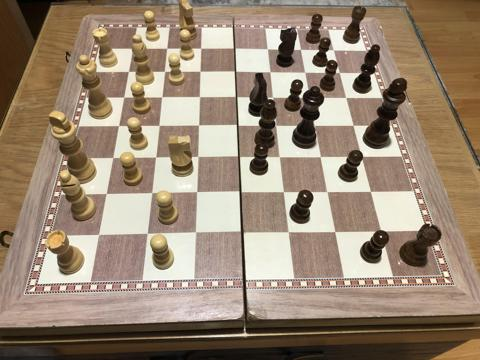xcorner: (329, 44, 342, 57), (263, 43, 276, 56), (127, 42, 140, 55), (335, 67, 348, 80), (123, 65, 136, 78), (305, 92, 318, 105), (194, 91, 207, 104), (156, 91, 169, 104), (118, 91, 131, 104), (272, 120, 285, 133), (193, 120, 206, 133), (316, 151, 329, 164), (275, 151, 288, 164), (150, 152, 163, 165), (107, 152, 120, 165), (323, 186, 336, 199), (146, 188, 159, 201), (100, 188, 113, 201), (330, 226, 343, 239), (284, 227, 297, 240), (296, 44, 309, 56), (230, 43, 242, 56), (162, 42, 174, 55), (266, 66, 278, 79), (231, 66, 243, 79), (195, 66, 208, 78), (159, 66, 172, 78), (342, 92, 354, 105), (349, 120, 361, 133), (311, 120, 323, 133), (233, 120, 245, 133), (153, 120, 166, 132), (113, 120, 126, 132), (357, 151, 369, 164), (234, 152, 247, 164), (192, 152, 205, 164), (366, 186, 378, 199), (279, 187, 292, 199), (236, 187, 248, 200), (191, 188, 204, 200), (376, 226, 389, 238), (237, 228, 250, 240), (190, 228, 202, 241), (142, 229, 154, 242), (196, 43, 208, 55), (301, 67, 313, 79), (269, 92, 281, 104), (232, 92, 244, 104), (93, 230, 105, 242)
